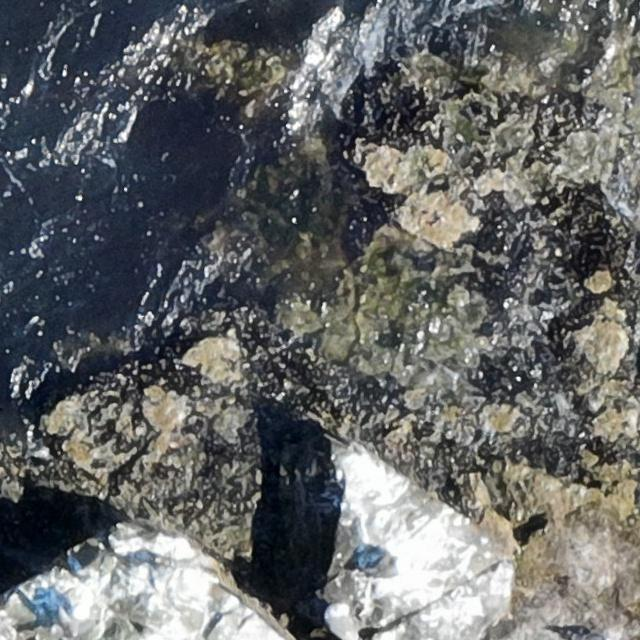umineko: (326, 603, 356, 637), (370, 557, 412, 581)
